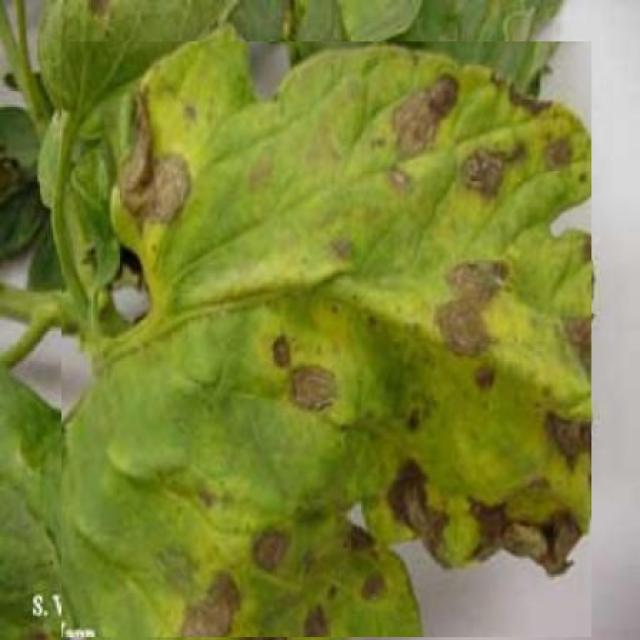Early Blight: (61, 42, 592, 637)
